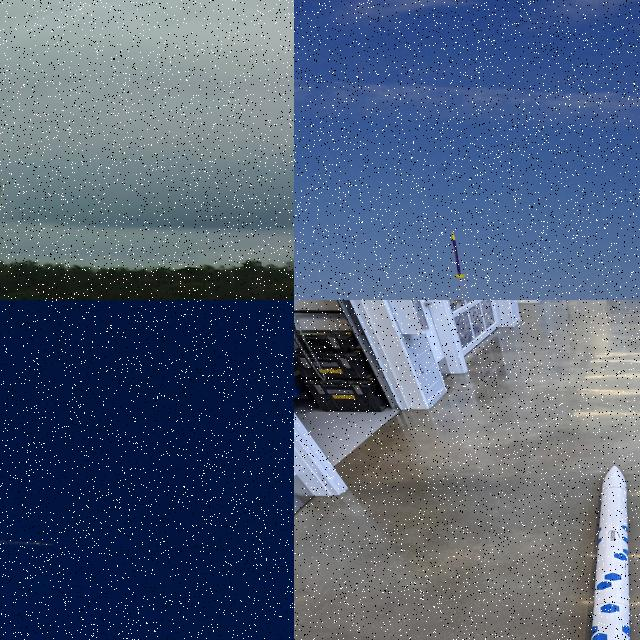Rocket: (589, 465, 631, 640), (451, 232, 466, 278), (37, 540, 54, 546)
